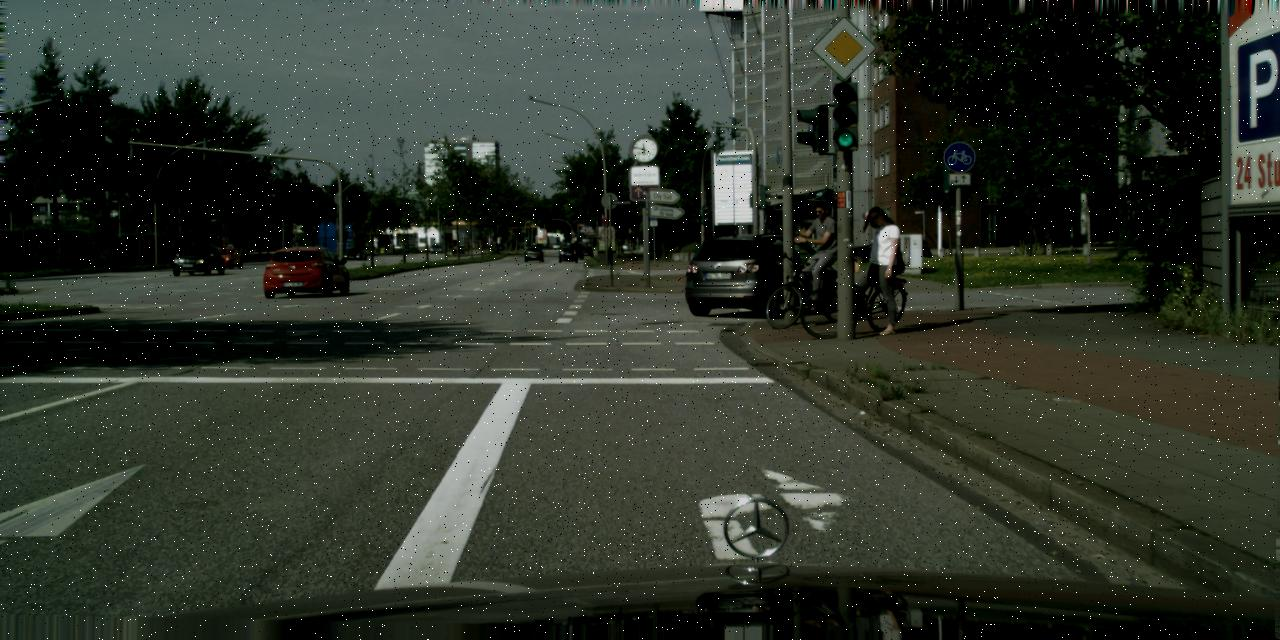ped: (850, 207, 899, 327), (791, 200, 835, 308), (34, 243, 44, 268)
